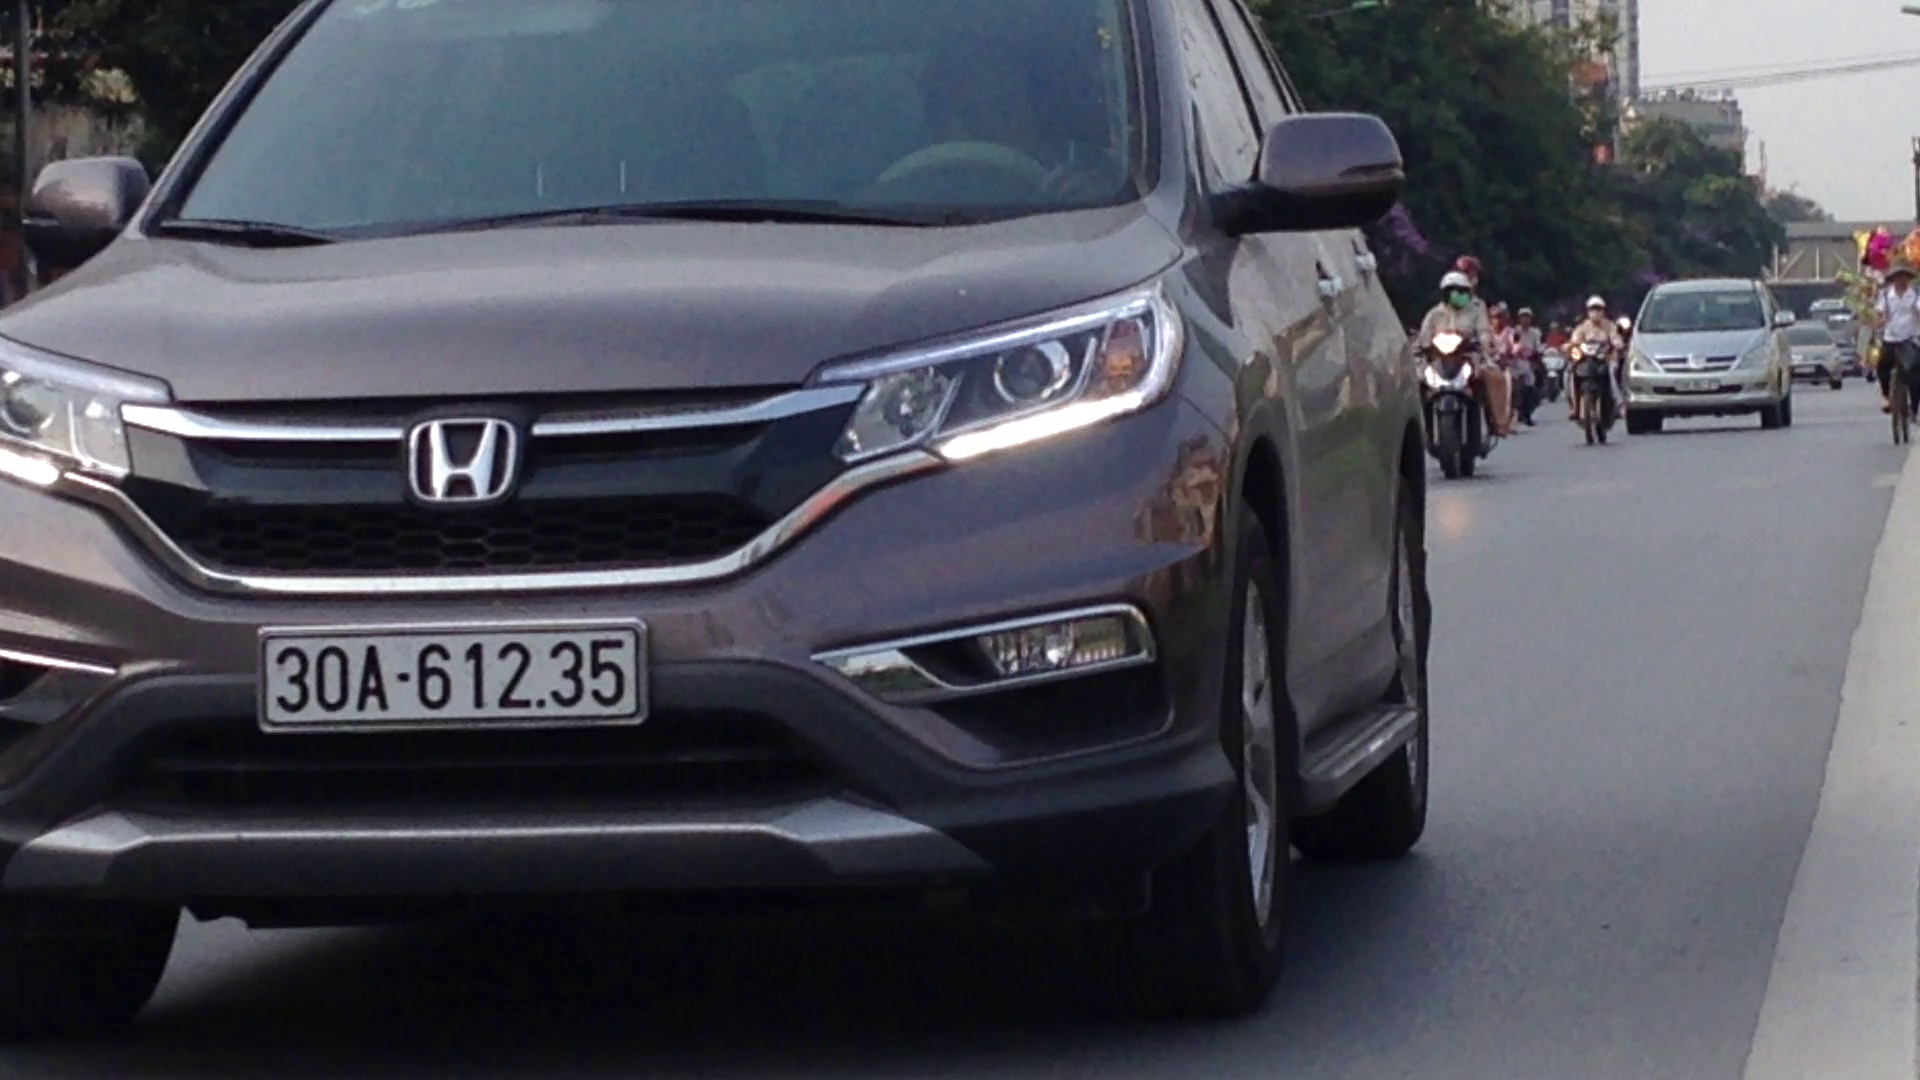vehicle-plate: (248, 619, 658, 734)
